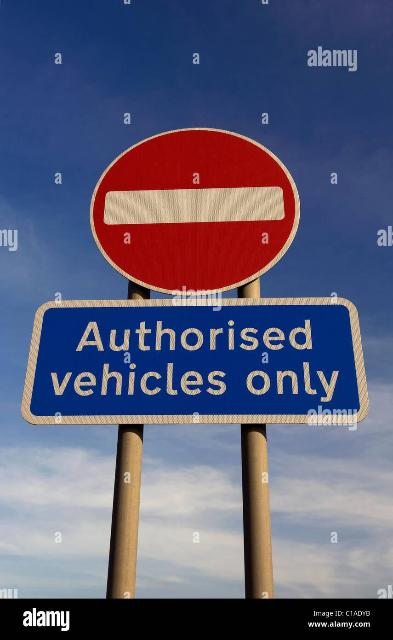B2: (88, 127, 302, 296)
